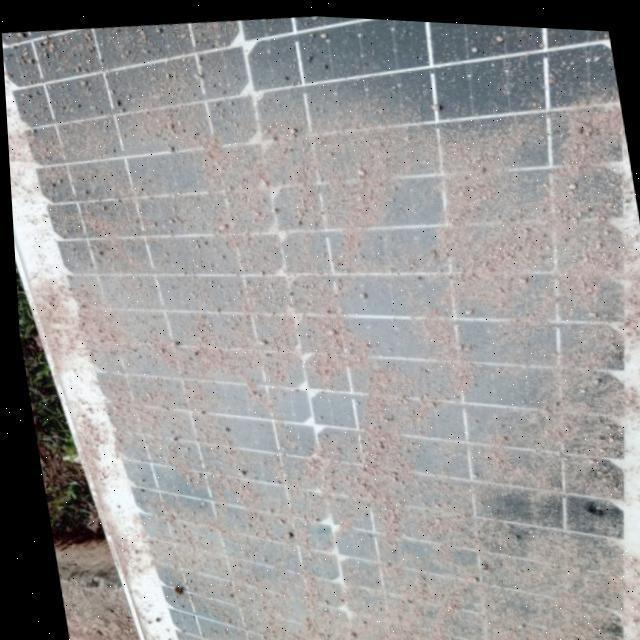Anomaly Solar Panel: (4, 0, 640, 640)
Surface Contaminant: (6, 13, 640, 640)
